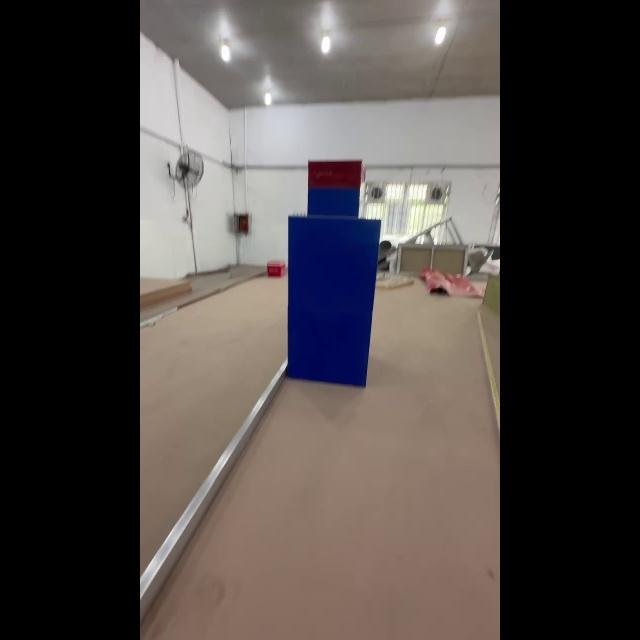earth_block: (284, 217, 389, 310), (279, 308, 375, 388)
sky_block: (305, 157, 363, 218)
